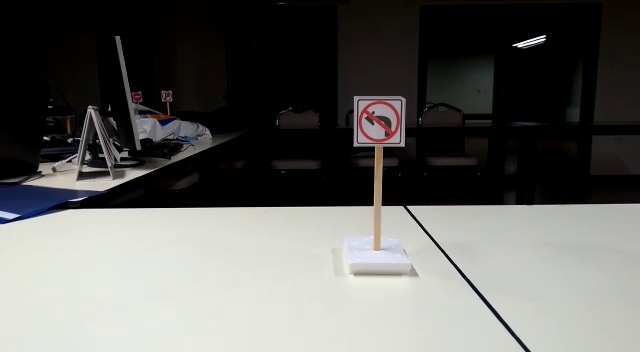sola_donulmez: (352, 99, 405, 147)
